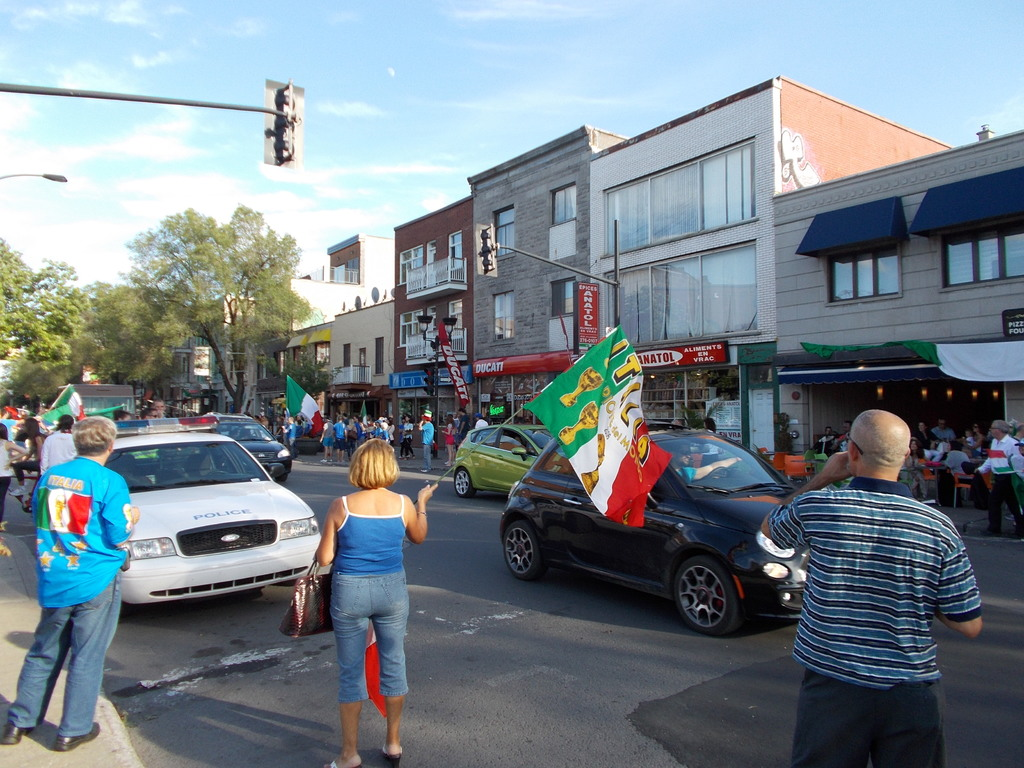Car: (499, 419, 821, 618), (104, 415, 309, 601), (448, 417, 565, 492), (220, 407, 295, 476)
